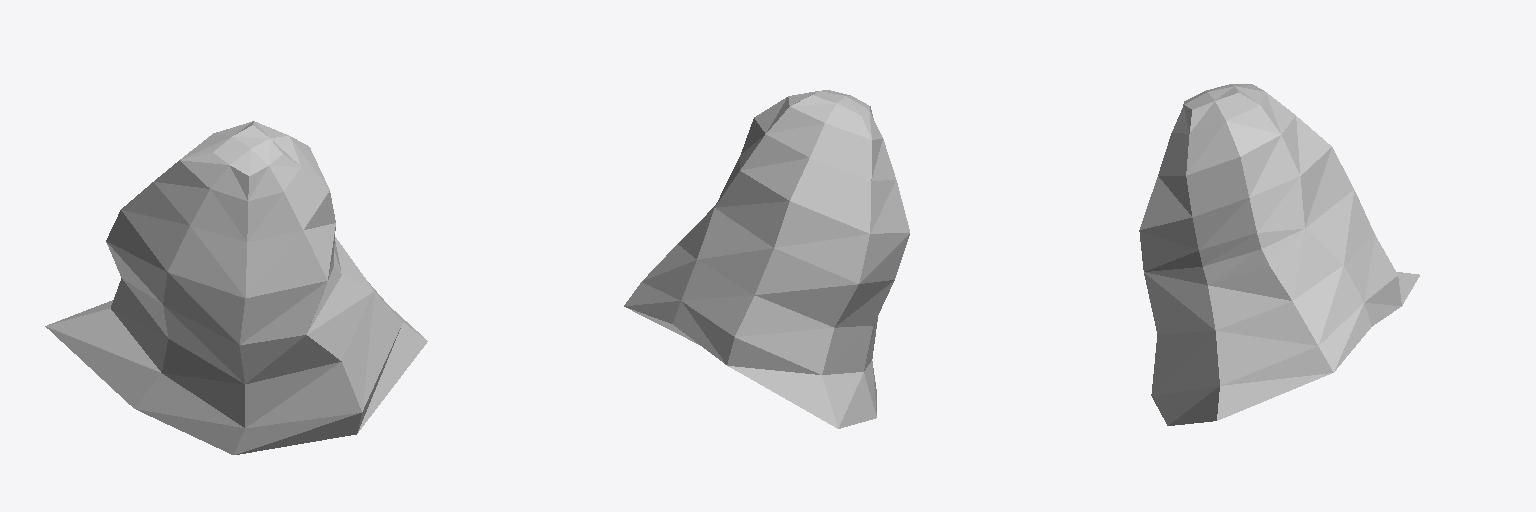
Rendered from rock042.obj.
3 views of the same model, side by side, from view 1: azimuth 30°, elevation 25°; view 2: azimuth 150°, elevation 25°; view 3: azimuth 270°, elevation 25° (orthographic).
Visible parts, largest first — view 1: pCube2; view 2: pCube2; view 3: pCube2.
Part boxes in pixels (left/top/right/bottom): pCube2: left=45, top=121, right=427, bottom=454; pCube2: left=624, top=90, right=909, bottom=428; pCube2: left=1139, top=84, right=1419, bottom=425.
Size of the model in its own units: 1139 by 1175 by 987.